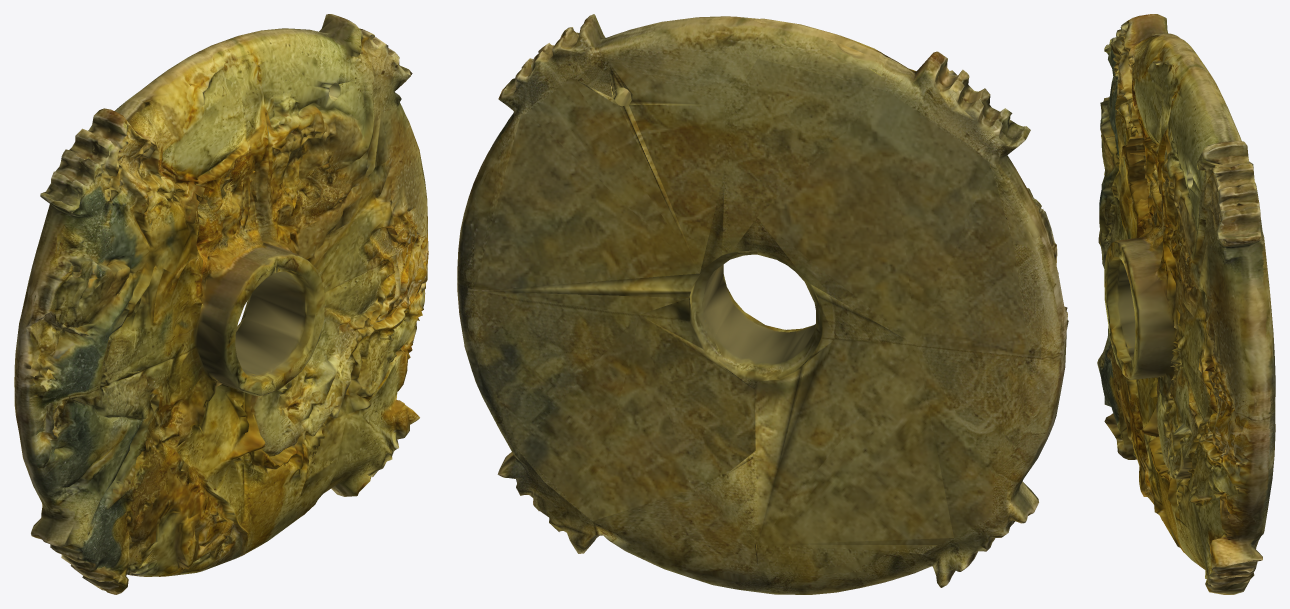
The model's file is 07-jade-bi.glb.
3 views of the same model, side by side, from view 1: azimuth 30°, elevation 25°; view 2: azimuth 150°, elevation 25°; view 3: azimuth 270°, elevation 25° (orthographic). The views are drawn at different scales.
Visible parts, largest first — view 1: Meshy_AI_Ancient_Jade_Sun_Disc_0817193606_texture; view 2: Meshy_AI_Ancient_Jade_Sun_Disc_0817193606_texture; view 3: Meshy_AI_Ancient_Jade_Sun_Disc_0817193606_texture.
Part boxes in pixels (x1,y1,x2,y2): Meshy_AI_Ancient_Jade_Sun_Disc_0817193606_texture: [14, 14, 428, 594]; Meshy_AI_Ancient_Jade_Sun_Disc_0817193606_texture: [457, 14, 1068, 594]; Meshy_AI_Ancient_Jade_Sun_Disc_0817193606_texture: [1097, 14, 1275, 594].
Bounding box in the file's own units: 0.5232 × 0.5417 × 0.1794.
1 material, 1 textured.
